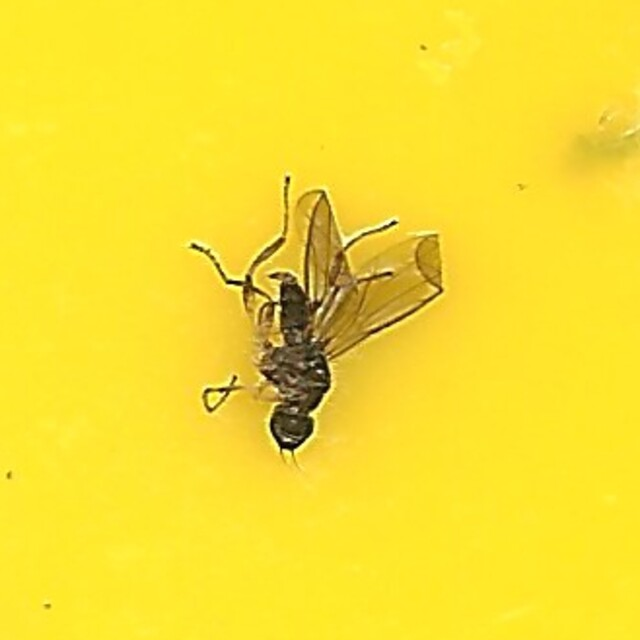Brachycera: (195, 179, 445, 461)
